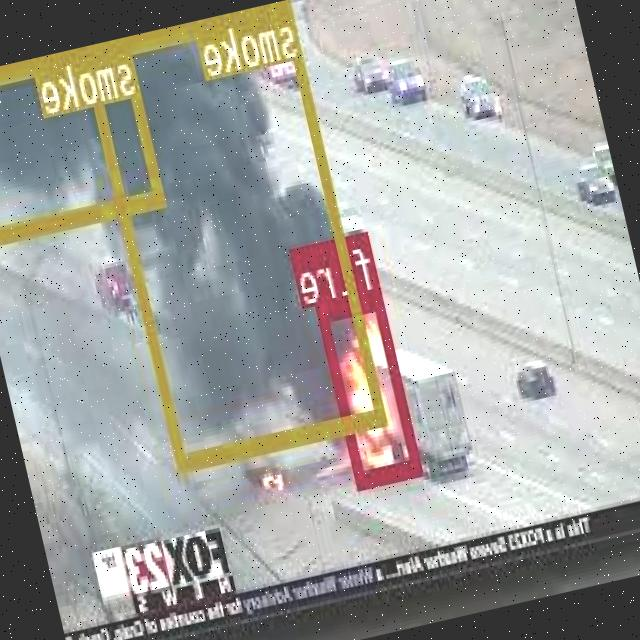fire: (317, 288, 423, 486)
smoke: (83, 0, 388, 469), (0, 35, 166, 242)
